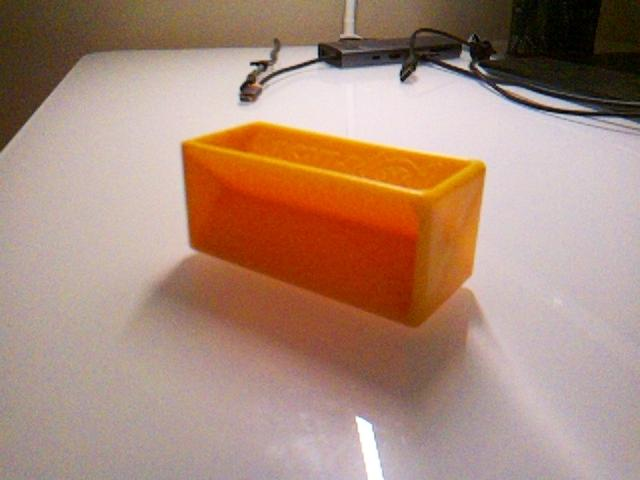yellow: (180, 119, 488, 329)
